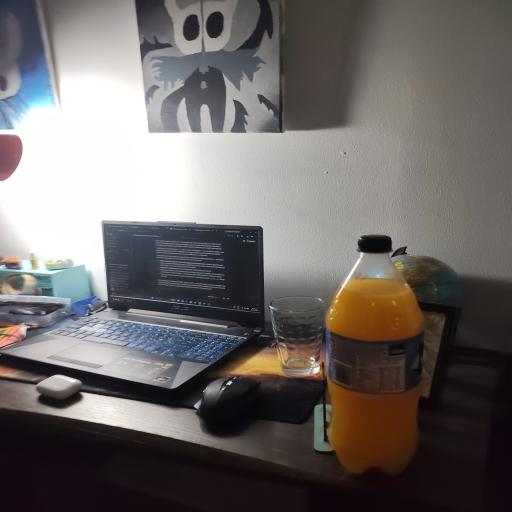Jugo del valle: (327, 235, 423, 475)
